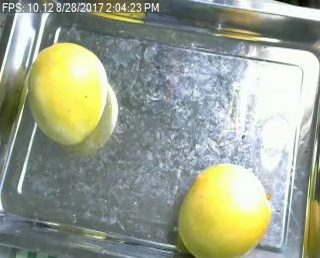Mango: (165, 158, 273, 257), (21, 39, 112, 153)
